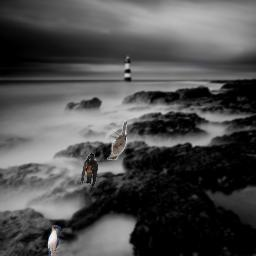Cuckoo: (107, 120, 127, 160), (48, 225, 61, 256)
Swallow: (81, 153, 98, 187)
